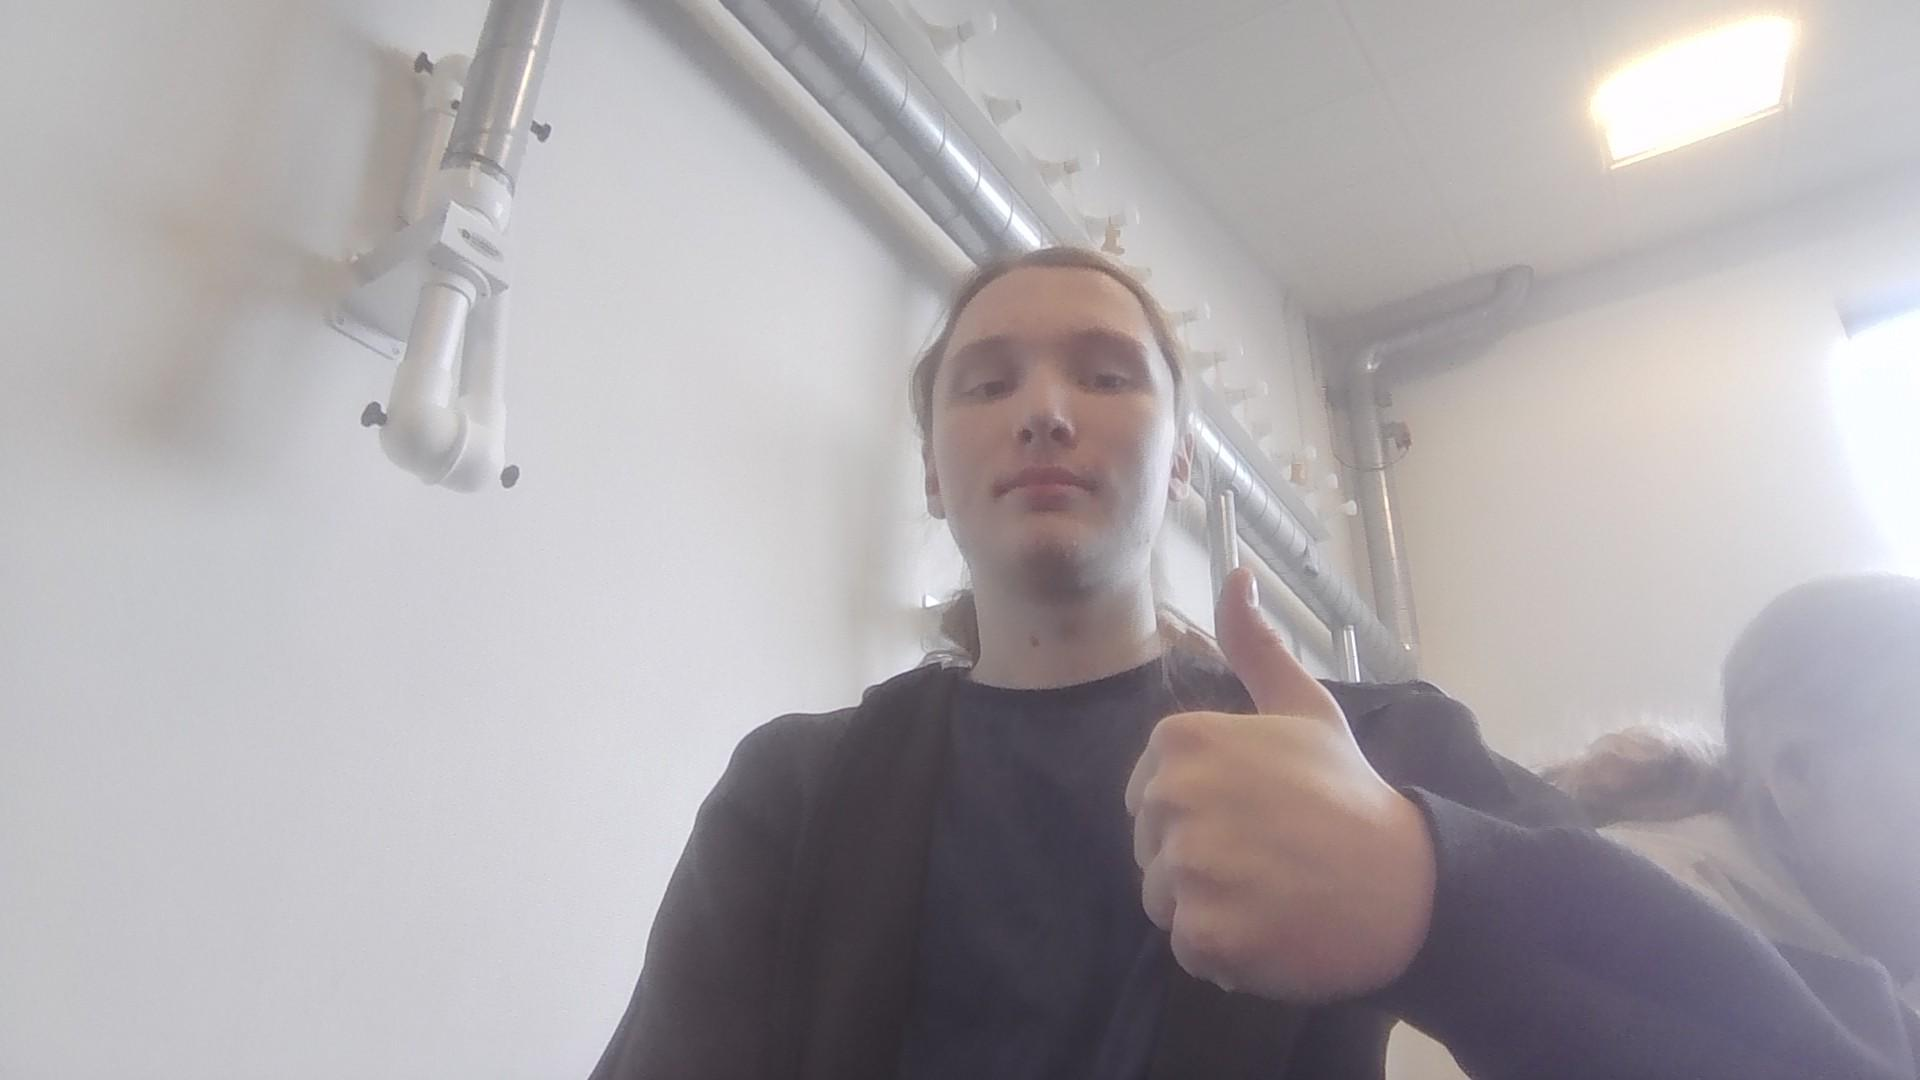thumbs up: (1117, 558, 1455, 998)
